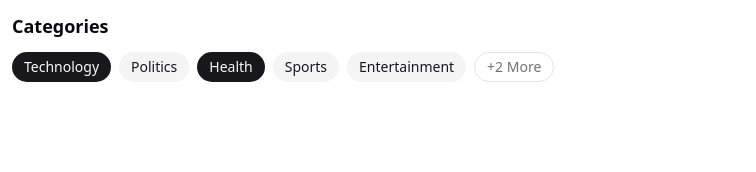
Test: CategoryFilter Component › collapses to show fewer categories when "Show Less" button is clicked
# First expand
Click the button "+2 More" at (514, 67), box [474,52,554,82]
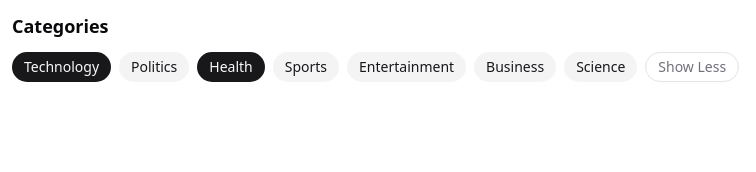
# Then collapse
Click the button "Show Less" at (692, 67), box [645,52,739,82]
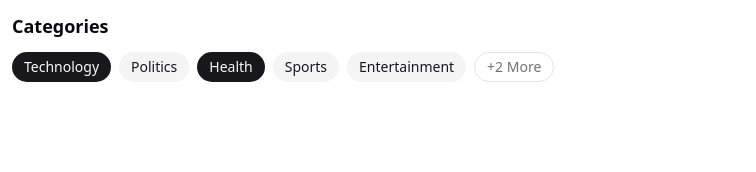
Check: the button "Business" is gone
Check: the button "Science" is gone
Check: the button "+2 More" is shown, box [474,52,554,82]
